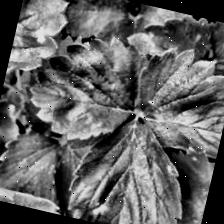Powdery Mildew Leaf: (60, 105, 201, 224), (123, 39, 224, 164), (4, 0, 77, 92), (123, 2, 220, 70), (151, 143, 217, 224)
